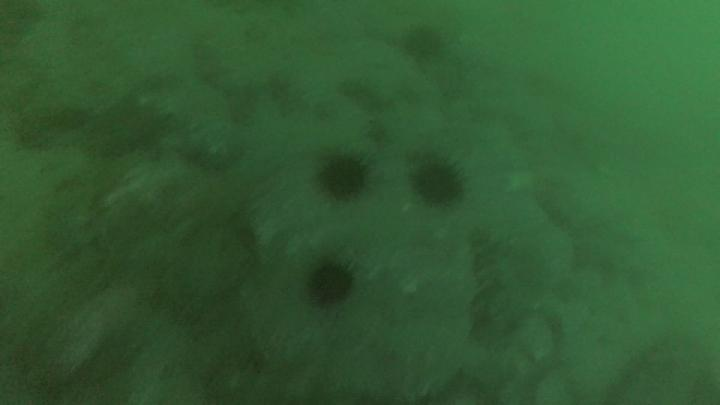echinus: (309, 261, 354, 306), (417, 164, 464, 205), (322, 158, 366, 200), (404, 25, 443, 64)
holothurian: (473, 225, 511, 346)
